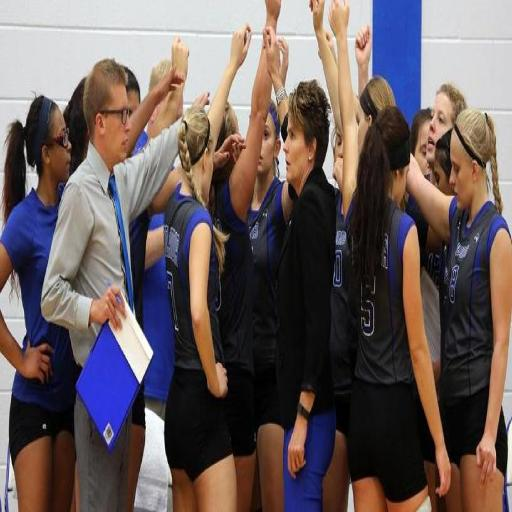person: (330, 0, 449, 511), (165, 25, 251, 511), (41, 60, 177, 366), (408, 109, 511, 510), (0, 96, 77, 511)
